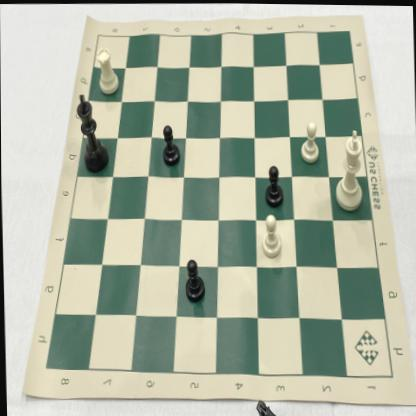black-king: (74, 89, 110, 173)
black-pawn: (181, 251, 206, 304), (261, 158, 285, 209), (160, 119, 181, 167)
white-king: (332, 125, 367, 214)
white-pawn: (257, 211, 284, 260), (298, 117, 322, 163)
white-rook: (92, 43, 120, 97)
